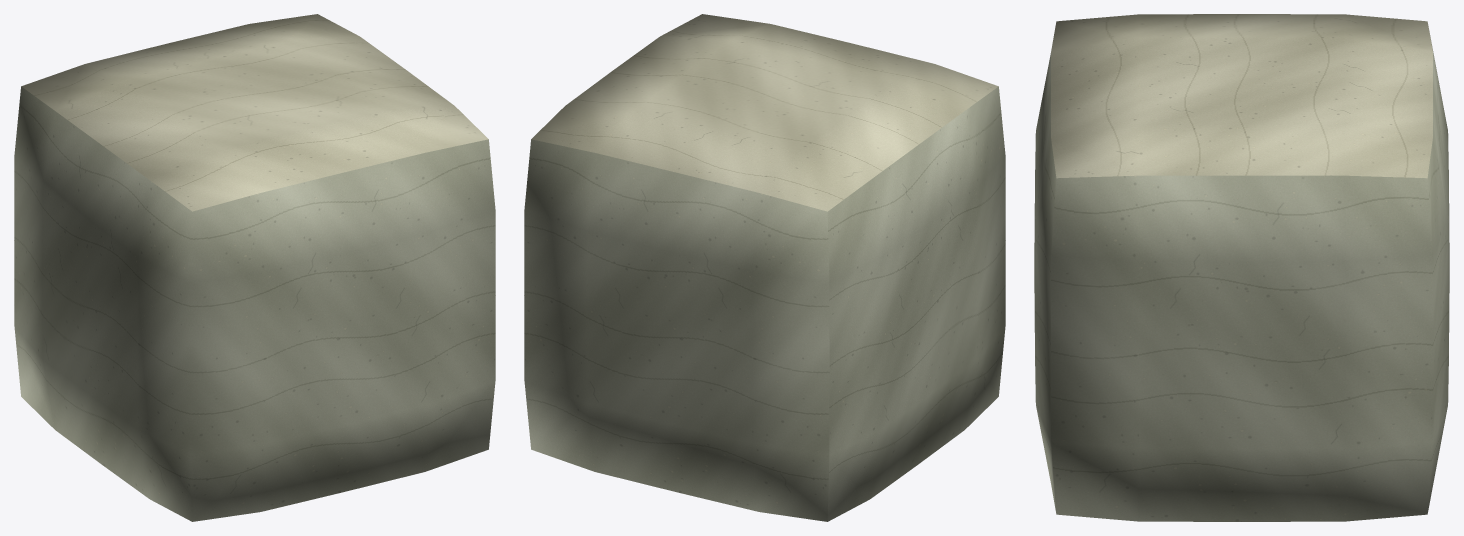
Rendered from limestone_single.glb.
3 views of the same model, side by side, from view 1: azimuth 30°, elevation 25°; view 2: azimuth 150°, elevation 25°; view 3: azimuth 270°, elevation 25° (orthographic). The views are drawn at different scales.
Visible parts, largest first — view 1: limestone_single; view 2: limestone_single; view 3: limestone_single.
Boxes of the visible parts, x1,y1,x2,y2 form: limestone_single: (14,14,495,521); limestone_single: (524,14,1005,521); limestone_single: (1034,14,1449,521).
Bounding box in the file's own units: 1 × 1 × 1.
Materials: 2 (2 with a texture image).
